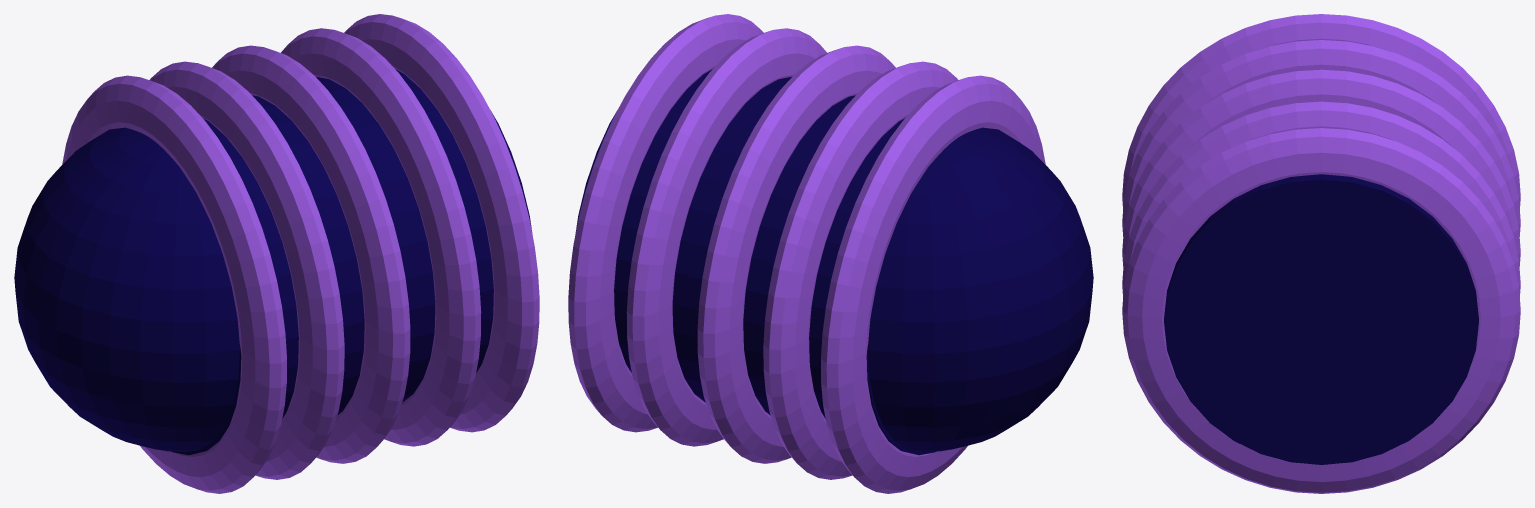
The model's file is powerCell.fbx.
The picture shows the model from 3 angles, left to right: view 1: azimuth 30°, elevation 25°; view 2: azimuth 150°, elevation 25°; view 3: azimuth 270°, elevation 25°; orthographic projection. The views are drawn at different scales.
Parts seen in each view (by area): view 1: Sphere, Torus.004, Cylinder, Torus.002, Torus.001, Torus.003, Torus; view 2: Sphere, Torus.004, Cylinder, Torus.002, Torus.001, Torus.003, Torus; view 3: Cylinder, Torus.003, Torus.001, Torus, Torus.002, Torus.004.
Part boxes in pixels (x1,y1,x2,y2): Sphere: (14,127,239,451); Torus.004: (62,75,286,493); Cylinder: (172,69,532,455); Torus.002: (281,28,481,446); Torus.001: (212,45,410,463); Torus.003: (344,14,539,432); Torus: (150,61,344,479); Sphere: (868,127,1093,451); Torus.004: (821,75,1045,493); Cylinder: (575,69,935,455); Torus.002: (626,28,826,446); Torus.001: (697,45,895,463); Torus.003: (568,14,763,432); Torus: (763,61,957,479); Cylinder: (1164,174,1478,464); Torus.003: (1122,128,1520,493); Torus.001: (1122,69,1520,266); Torus: (1122,40,1520,236); Torus.002: (1122,101,1520,296); Torus.004: (1122,14,1520,208).
Bounding box in the file's own units: 225 × 202 × 203.
